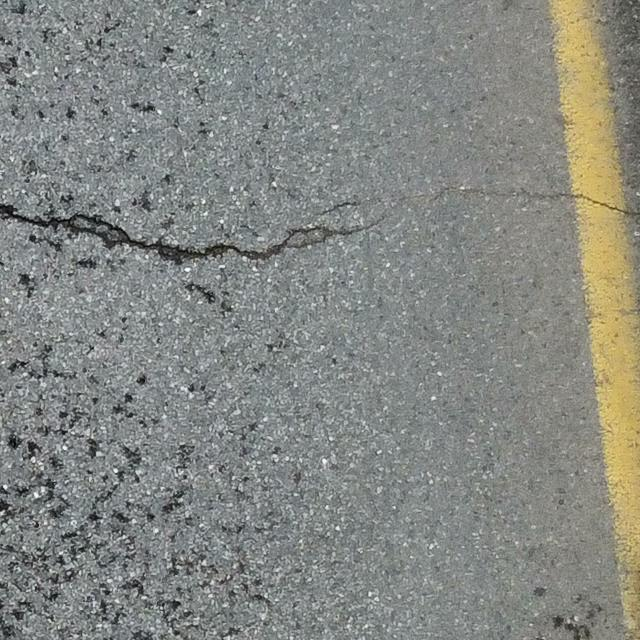TransverseCrack: (1, 202, 392, 264), (318, 186, 640, 216)
